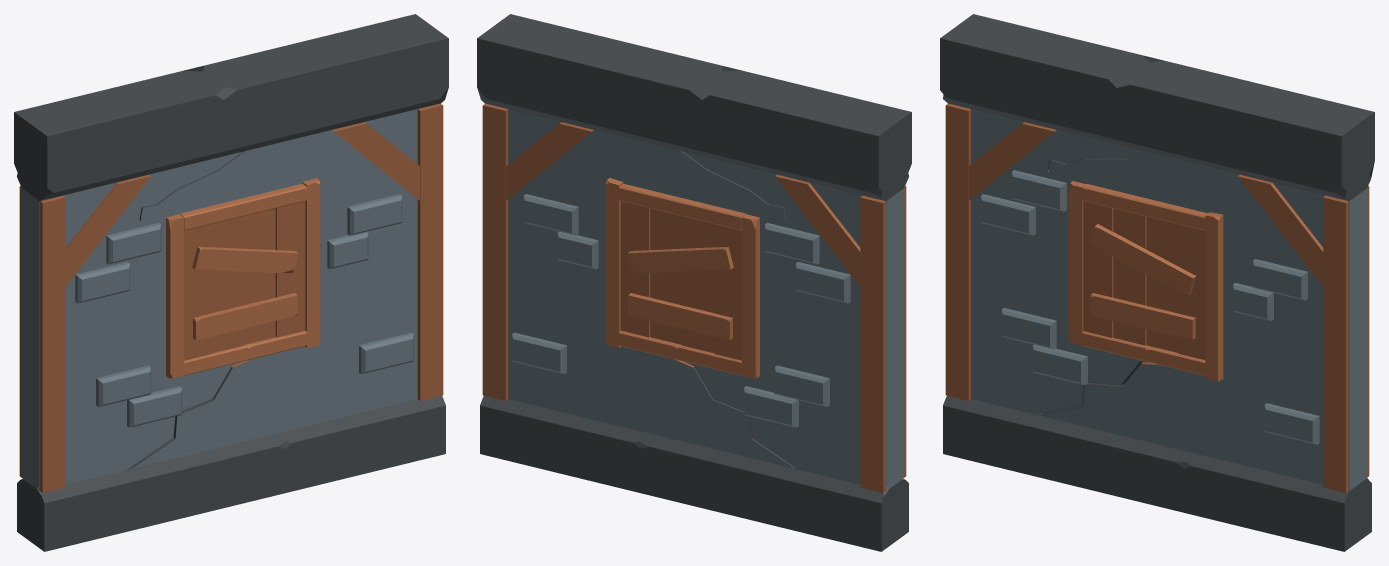
The model's file is wall_2_4.glb.
3 views of the same model, side by side, from view 1: azimuth 30°, elevation 25°; view 2: azimuth 150°, elevation 25°; view 3: azimuth 330°, elevation 25° (orthographic).
Parts seen in each view (by area): view 1: wall_2_4; view 2: wall_2_4; view 3: wall_2_4.
Part boxes in pixels (x1,y1,x2,y2): wall_2_4: (14,14,448,551); wall_2_4: (477,14,911,551); wall_2_4: (940,14,1374,551).
Bounding box in the file's own units: 1.54 × 1.53 × 0.2204.
Materials: 1 (1 with a texture image).
